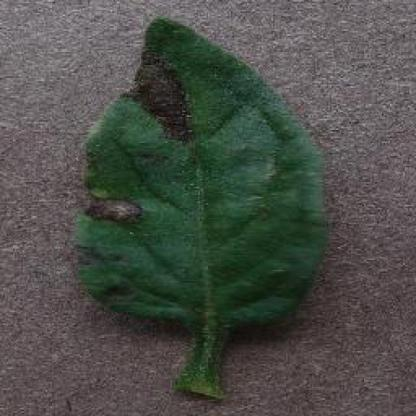Tomato_Blight: (74, 17, 328, 330)
